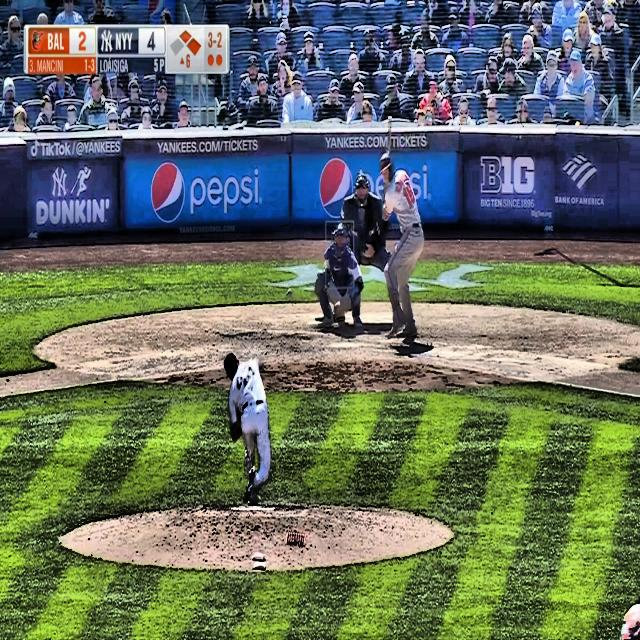baseball: (286, 288, 293, 299)
